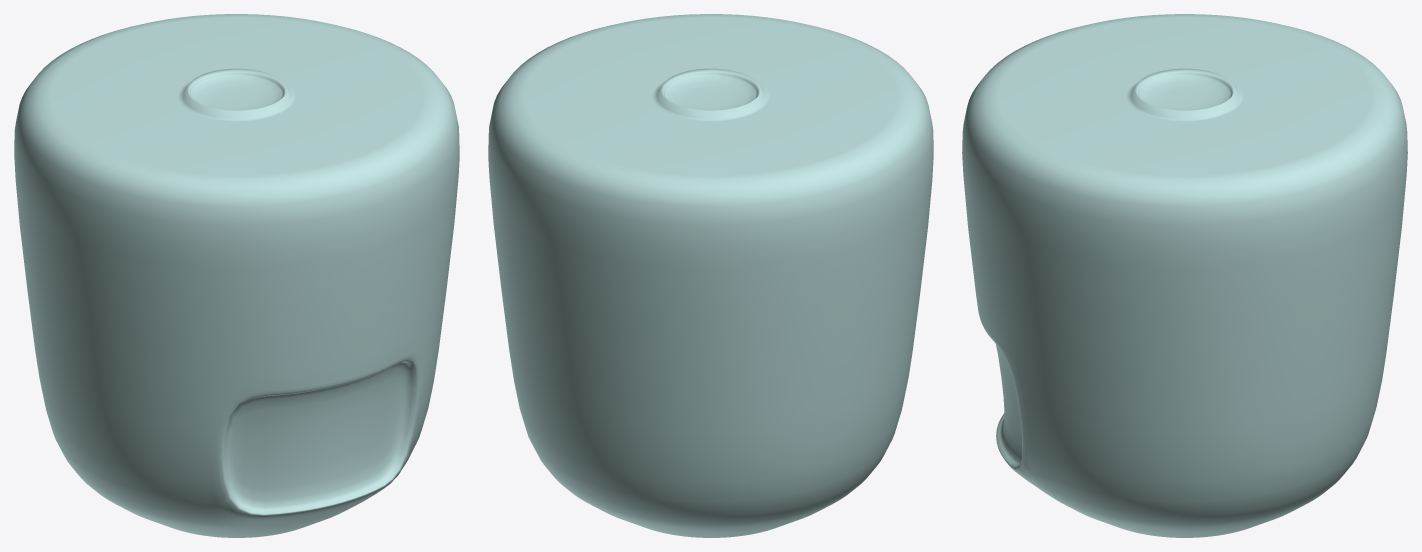
The model's file is head_square.fbx.
3 renders of one model, left to right at view 1: azimuth 30°, elevation 25°; view 2: azimuth 150°, elevation 25°; view 3: azimuth 270°, elevation 25°, orthographic.
Parts seen in each view (by area): view 1: pCylinder15; view 2: pCylinder15; view 3: pCylinder15.
Boxes of the visible parts, x1,y1,x2,y2 form: pCylinder15: (14, 14, 459, 537); pCylinder15: (488, 14, 933, 537); pCylinder15: (962, 14, 1407, 537).
Size of the model in its own units: 8.43 by 8.65 by 8.43.
